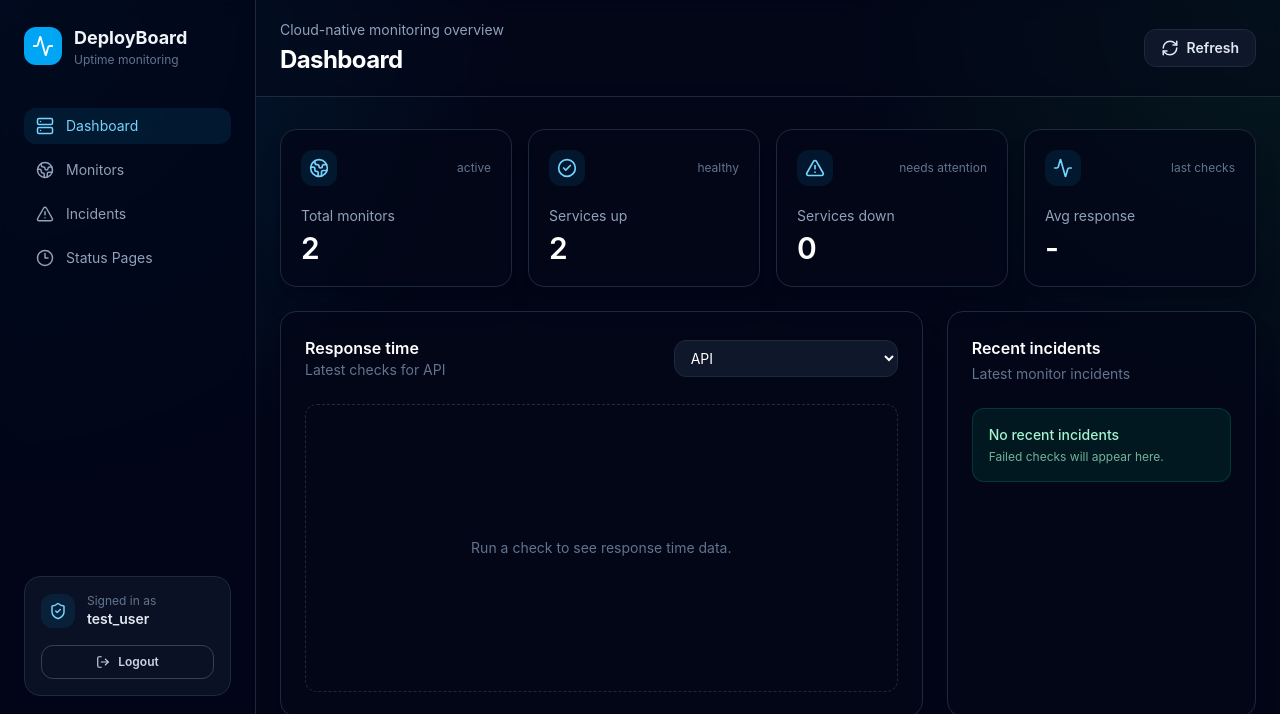
Test case: dashboard views › shows status-page guidance for existing monitors
This screenshot has width=1280, height=714.
Expected: the heading "Dashboard" is shown, [280, 45, 403, 74]
Click the button "Status Pages". click: (128, 258)
box: [24, 240, 231, 276]
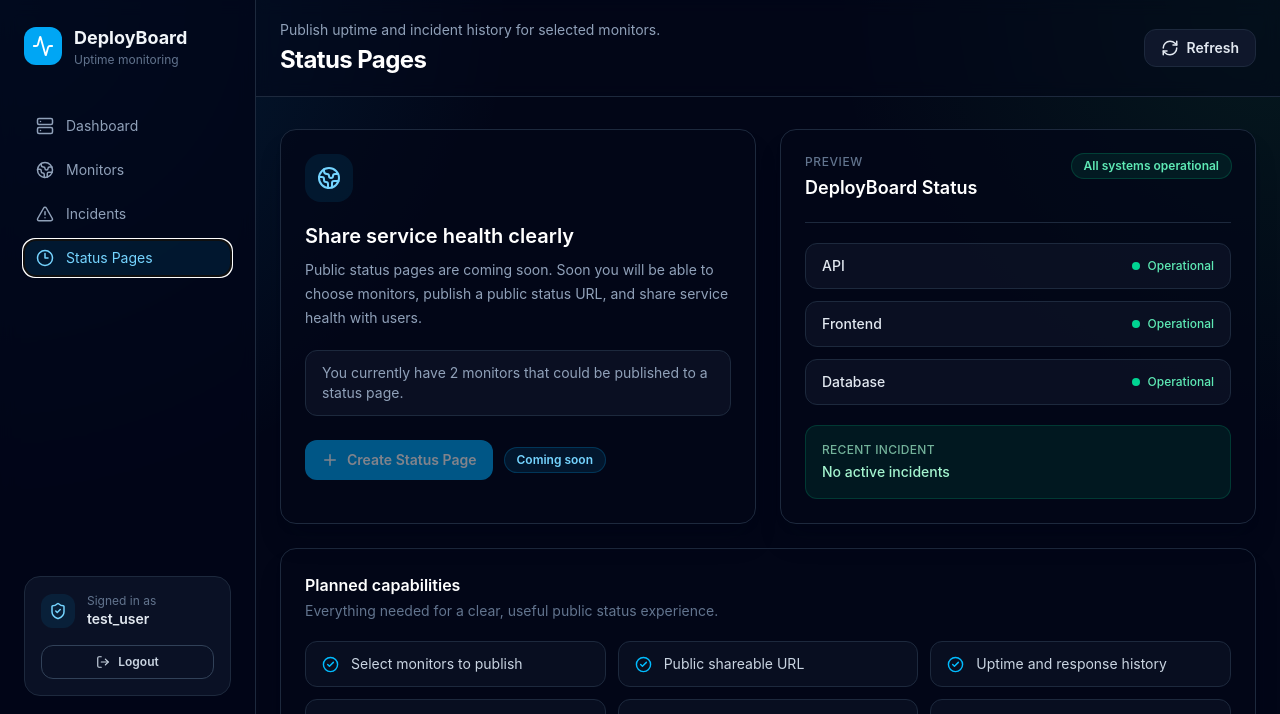
Expected: the text "You currently have 2 monitors that could be published to a status page." is shown, [305, 350, 731, 416]
